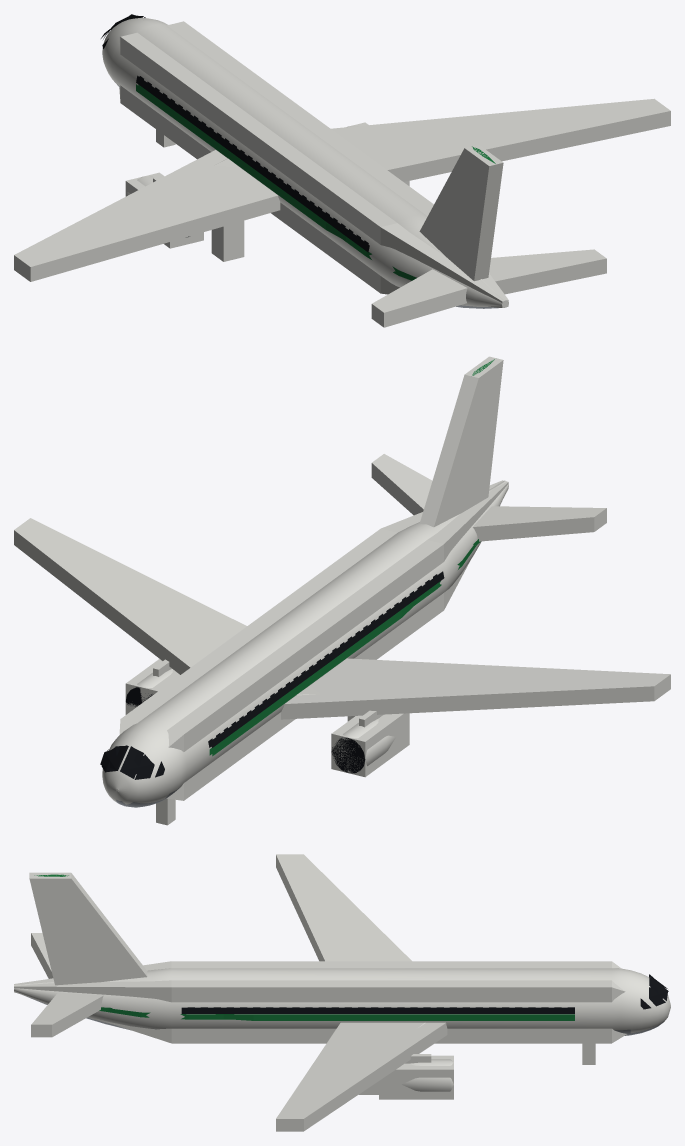
File: bne_ac_narrow_green.dae
The picture shows the model from 3 angles, top to bottom: view 1: azimuth 30°, elevation 25°; view 2: azimuth 150°, elevation 25°; view 3: azimuth 270°, elevation 25°; orthographic projection. The views are drawn at different scales.
Parts seen in each view (by area): view 1: Colmesh_bne_ac_narrow_green-1, bne_ac_narrow_green160, bne_ac_narrow_green16; view 2: Colmesh_bne_ac_narrow_green-1, bne_ac_narrow_green160, bne_ac_narrow_green16; view 3: Colmesh_bne_ac_narrow_green-1, bne_ac_narrow_green160, bne_ac_narrow_green16.
Part boxes in pixels (box(x1,y1,x2,y2)): Colmesh_bne_ac_narrow_green-1: box(14, 21, 670, 327); bne_ac_narrow_green160: box(14, 15, 508, 318); bne_ac_narrow_green16: box(101, 14, 507, 307); Colmesh_bne_ac_narrow_green-1: box(14, 356, 670, 825); bne_ac_narrow_green160: box(101, 359, 669, 807); bne_ac_narrow_green16: box(100, 482, 503, 790); Colmesh_bne_ac_narrow_green-1: box(14, 854, 626, 1131); bne_ac_narrow_green160: box(14, 874, 670, 1126); bne_ac_narrow_green16: box(16, 972, 668, 1033).
Size of the model in its own units: 35.8 by 37.6 by 11.8.
